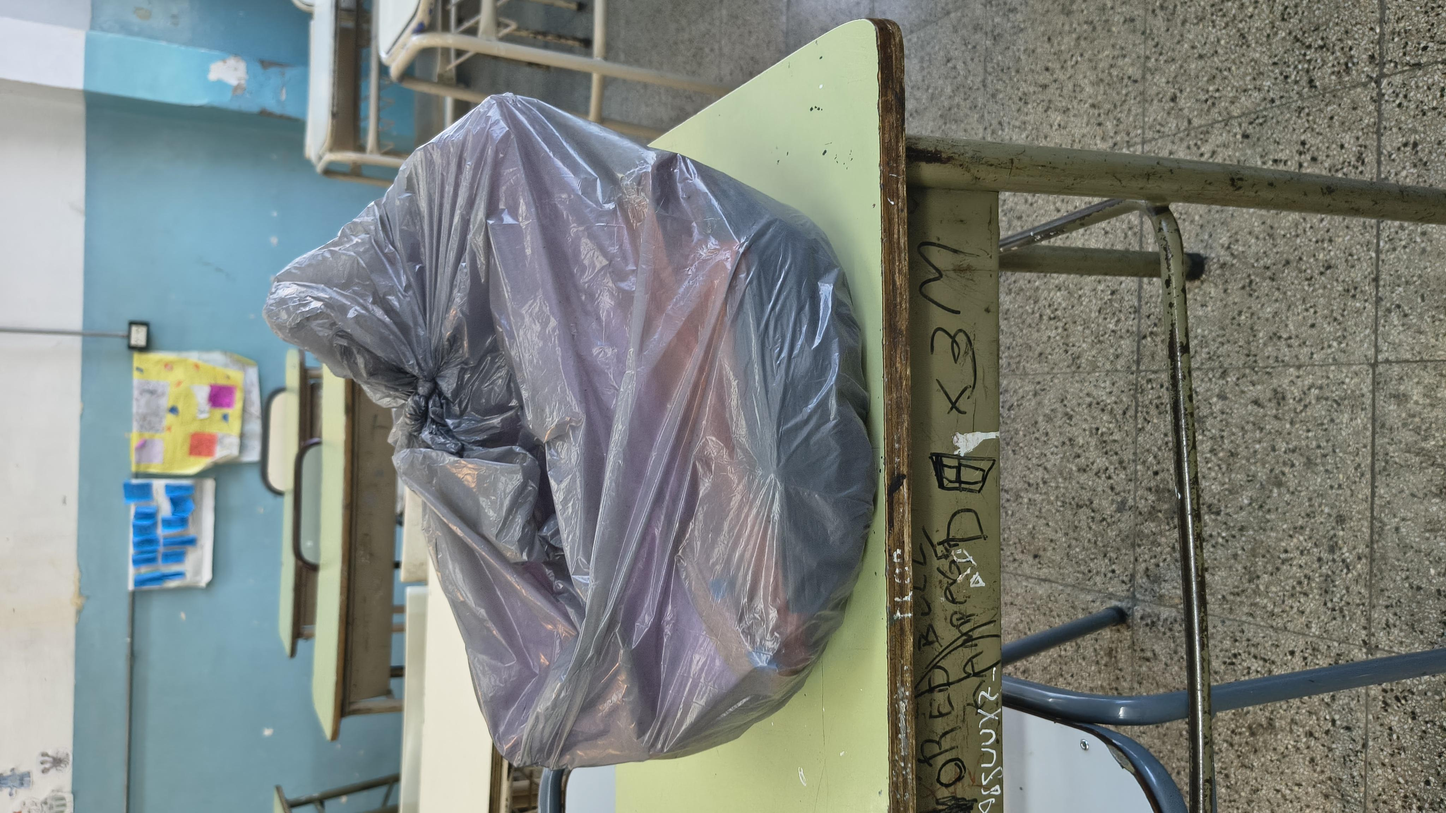Garbage: (50, 141, 1324, 538)
